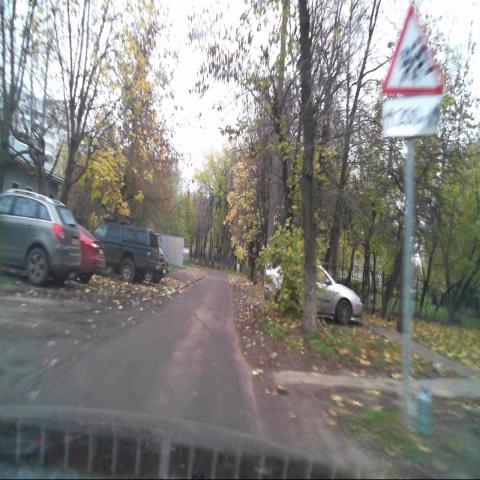8_2_1: (382, 98, 438, 136)
